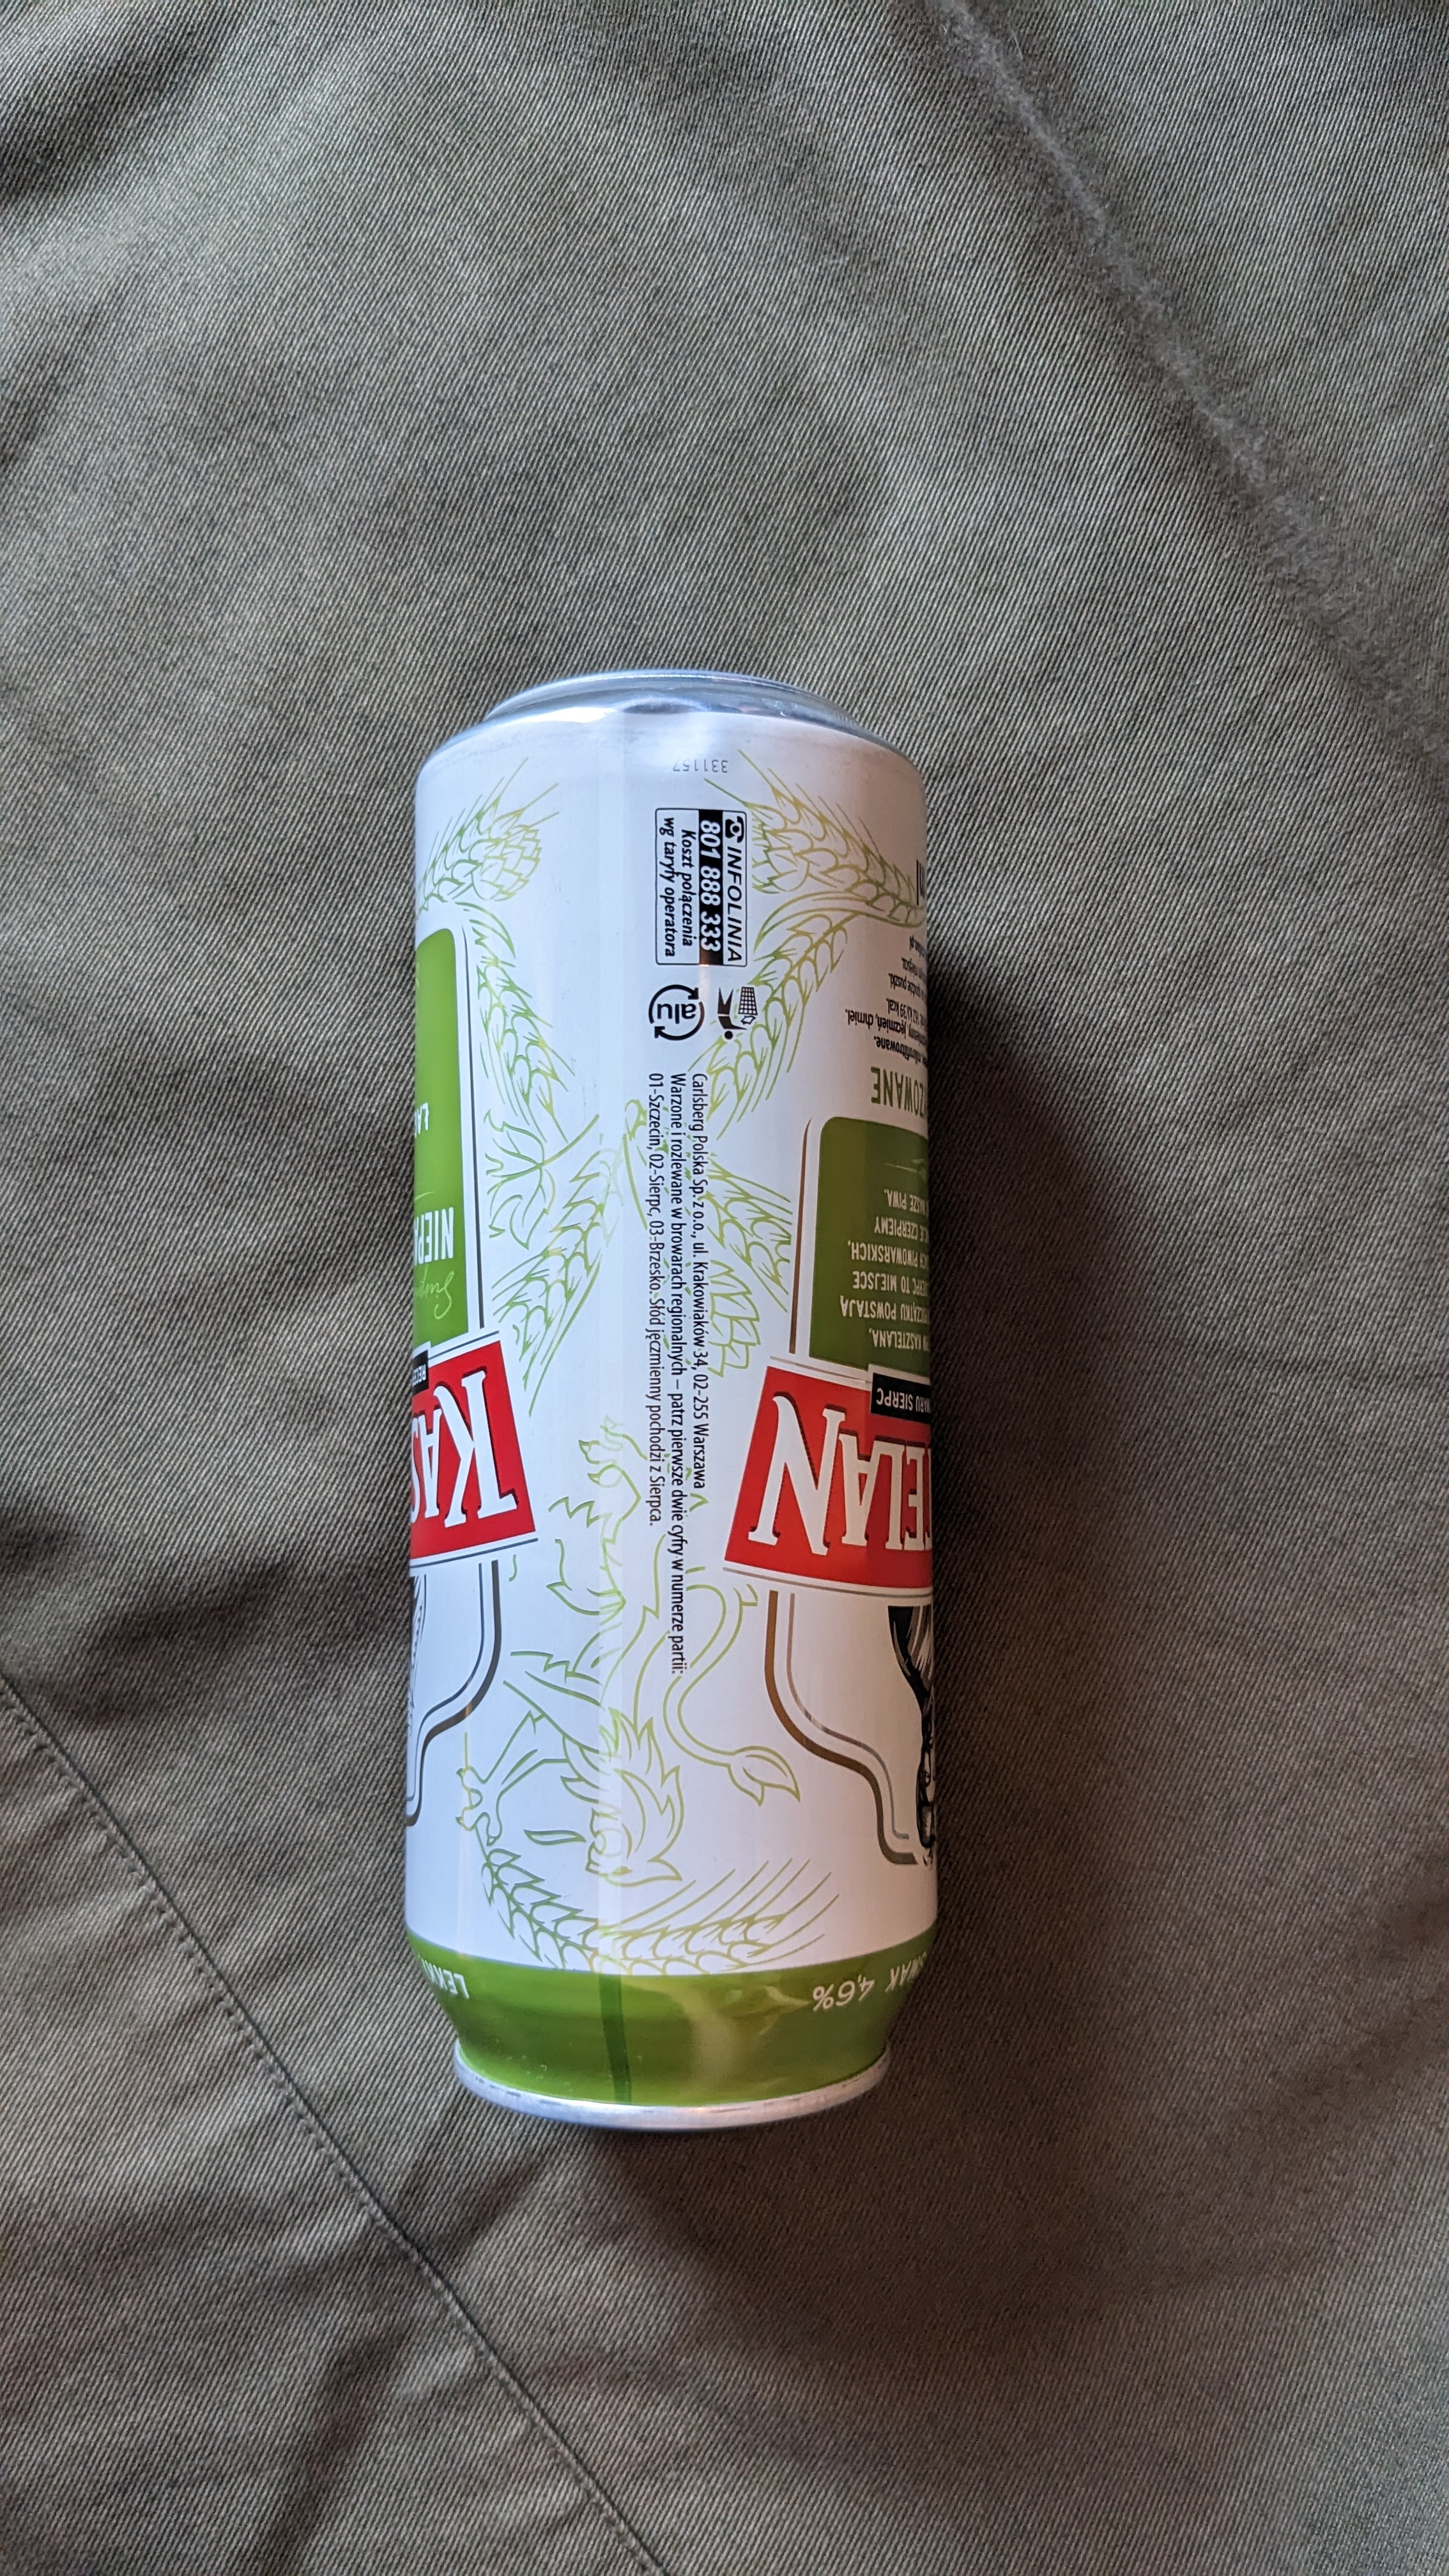kasztelan: (379, 669, 1007, 2166)
